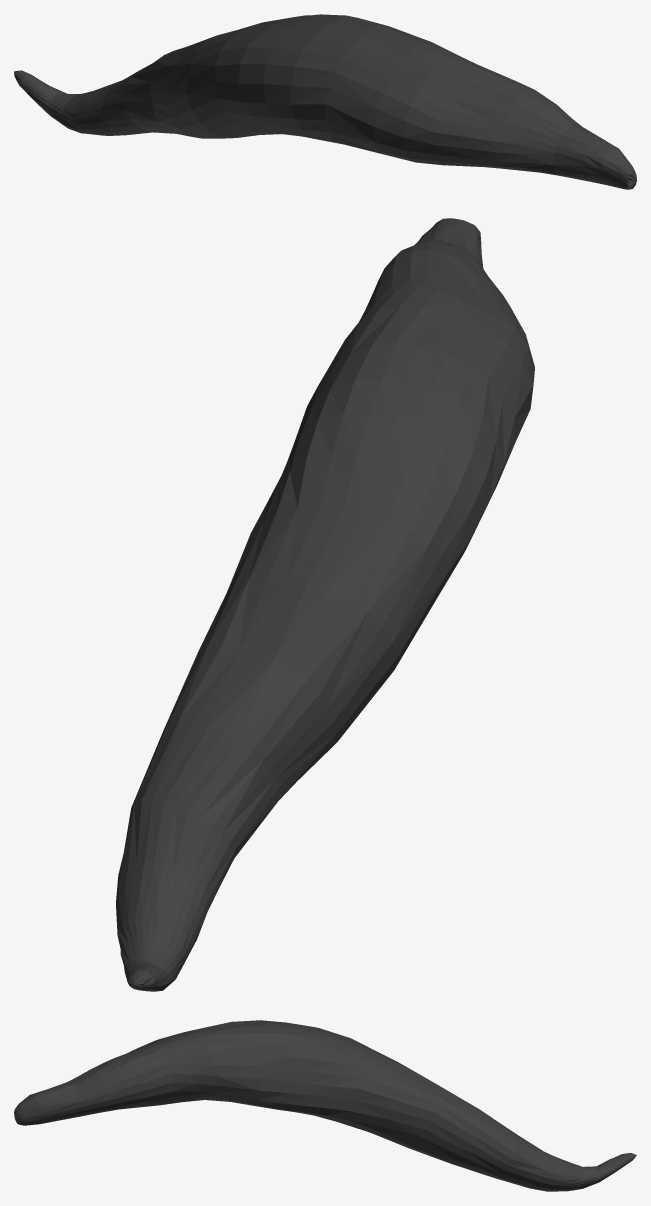
Rendered from Brachialis_1.glb.
3 renders of one model, top to bottom at view 1: azimuth 30°, elevation 25°; view 2: azimuth 150°, elevation 25°; view 3: azimuth 270°, elevation 25°, orthographic. The views are drawn at different scales.
Visible parts, largest first — view 1: Brachialis_1; view 2: Brachialis_1; view 3: Brachialis_1.
Boxes of the visible parts, <box> form: Brachialis_1: <box>14,14,636,189</box>; Brachialis_1: <box>116,218,534,991</box>; Brachialis_1: <box>14,1020,636,1191</box>.
Size of the model in its own units: 0.011 by 0.0124 by 0.0379.
Materials: 1 (1 with a texture image).
